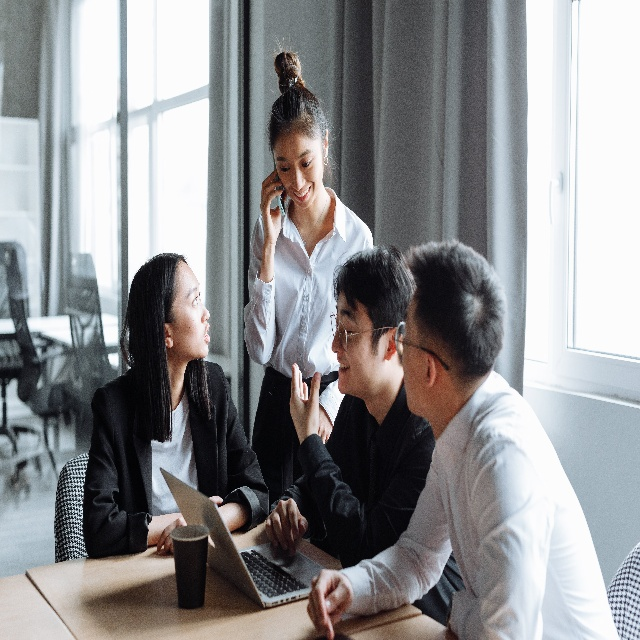Gafas: (395, 320, 449, 373), (330, 310, 393, 353)
Sin_guantes: (306, 569, 354, 640), (289, 361, 322, 443), (264, 497, 309, 556), (259, 167, 288, 245), (156, 513, 187, 555), (317, 403, 333, 445), (207, 494, 224, 507)
